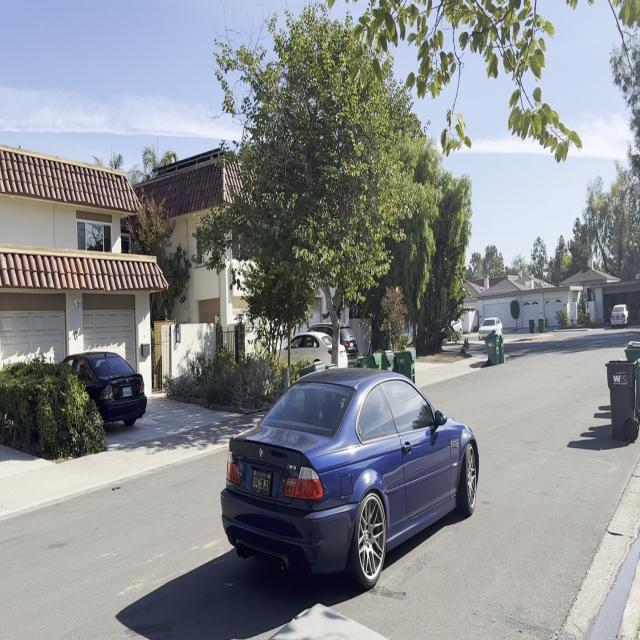Carbeetle: (221, 370, 483, 592)
Civilian: (46, 341, 150, 441), (271, 324, 362, 368), (474, 310, 502, 346), (606, 295, 630, 331)
